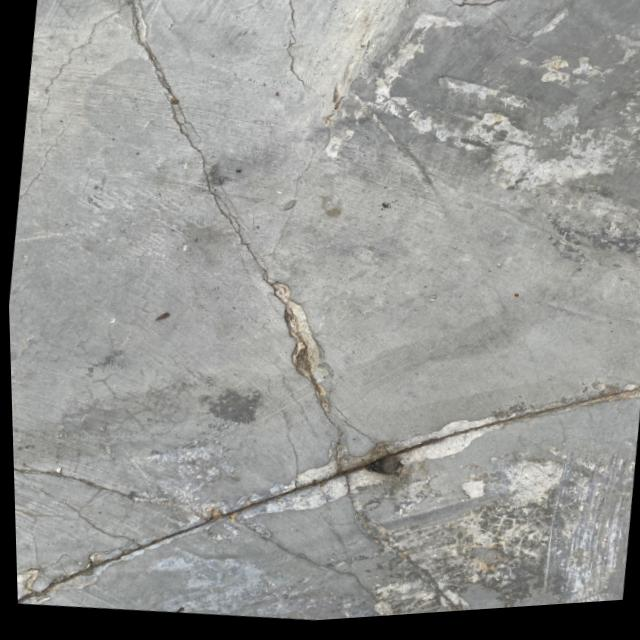Crack: (8, 303, 640, 640), (59, 0, 411, 490), (263, 0, 329, 97)
